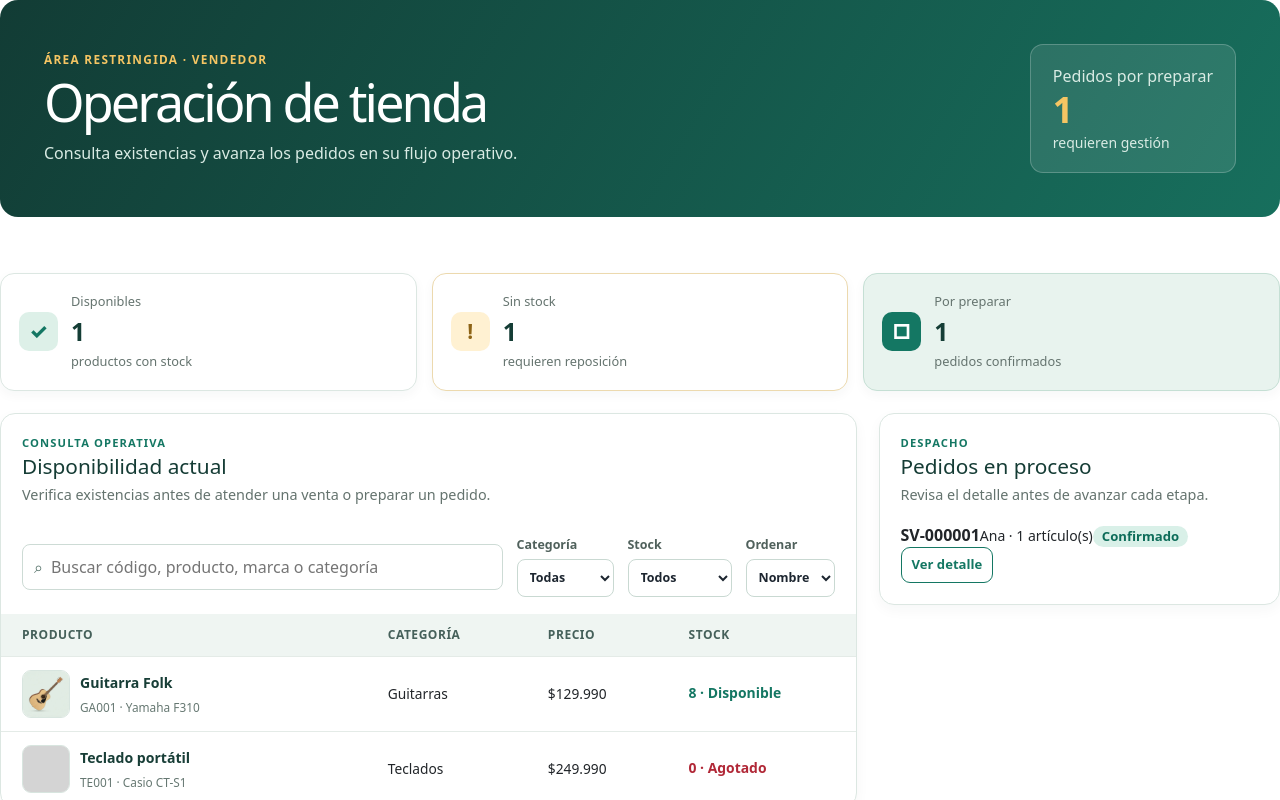
Vendedor › muestra el detalle y solicita confirmación antes de avanzar un pedido
Click the button "Ver detalle": {"x": 947, "y": 565} [900,547,993,583]
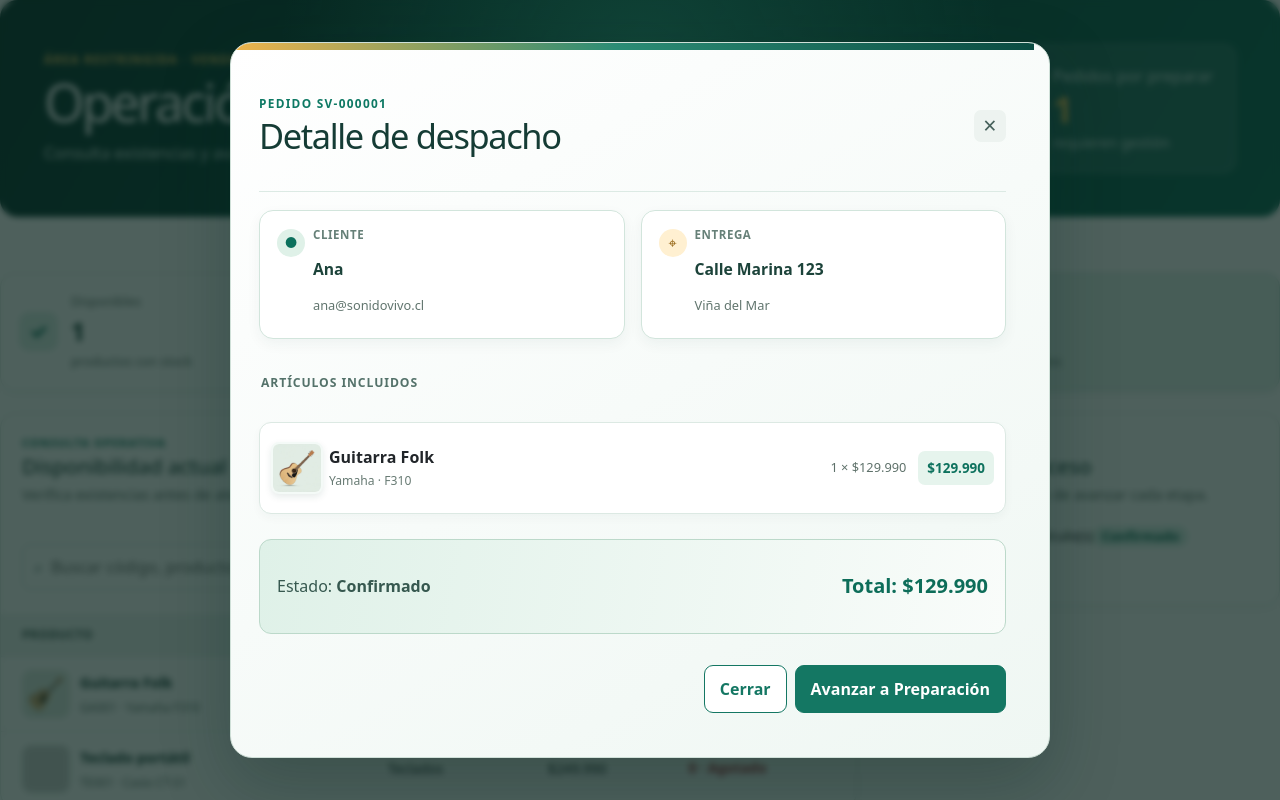
Result: the dialog "Detalle de despacho" is shown at [230,42,1050,758]
Result: the text "Calle Marina 123" is shown at [694,258,824,280]
Click the button "Avanzar a Preparación": {"x": 900, "y": 689} [795,665,1006,713]
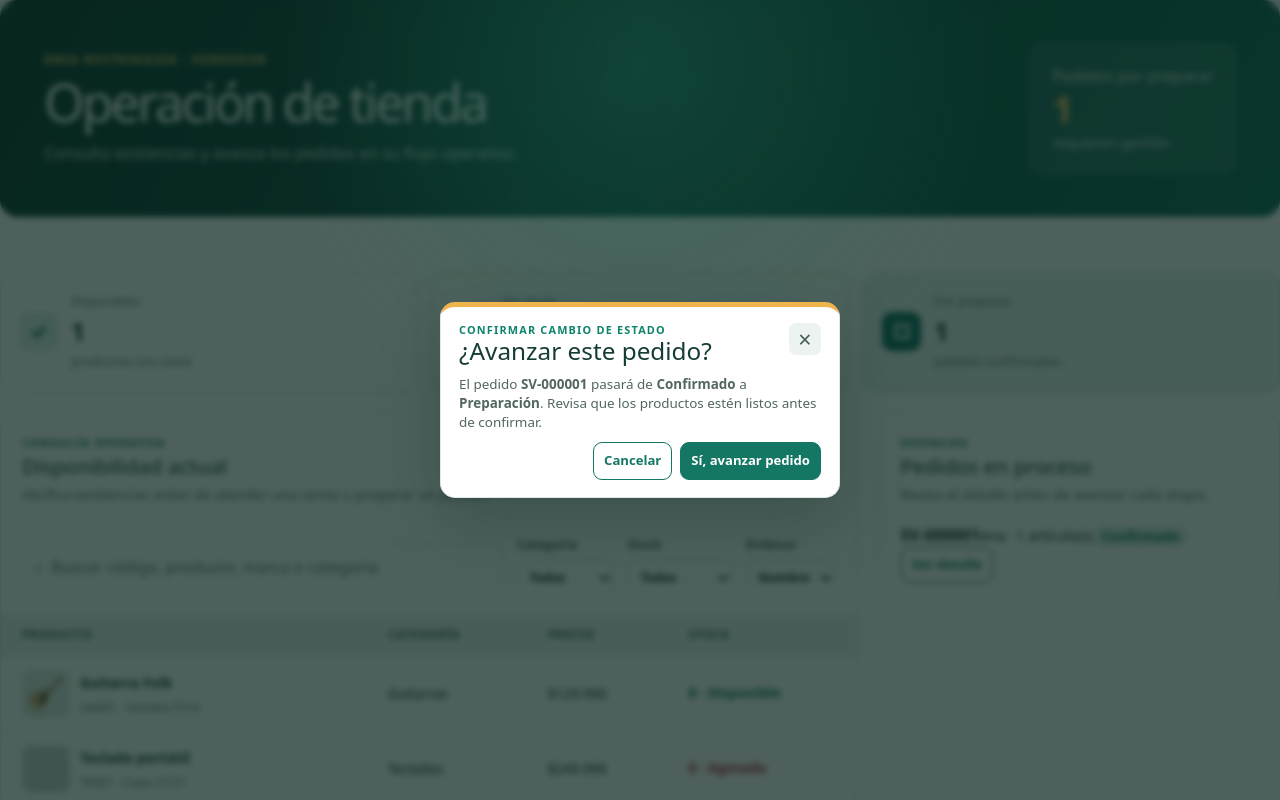
Result: the dialog "¿Avanzar este pedido?" is shown at [440,302,840,498]
Click the button "Sí, avanzar pedido": {"x": 751, "y": 461} [680,442,821,480]
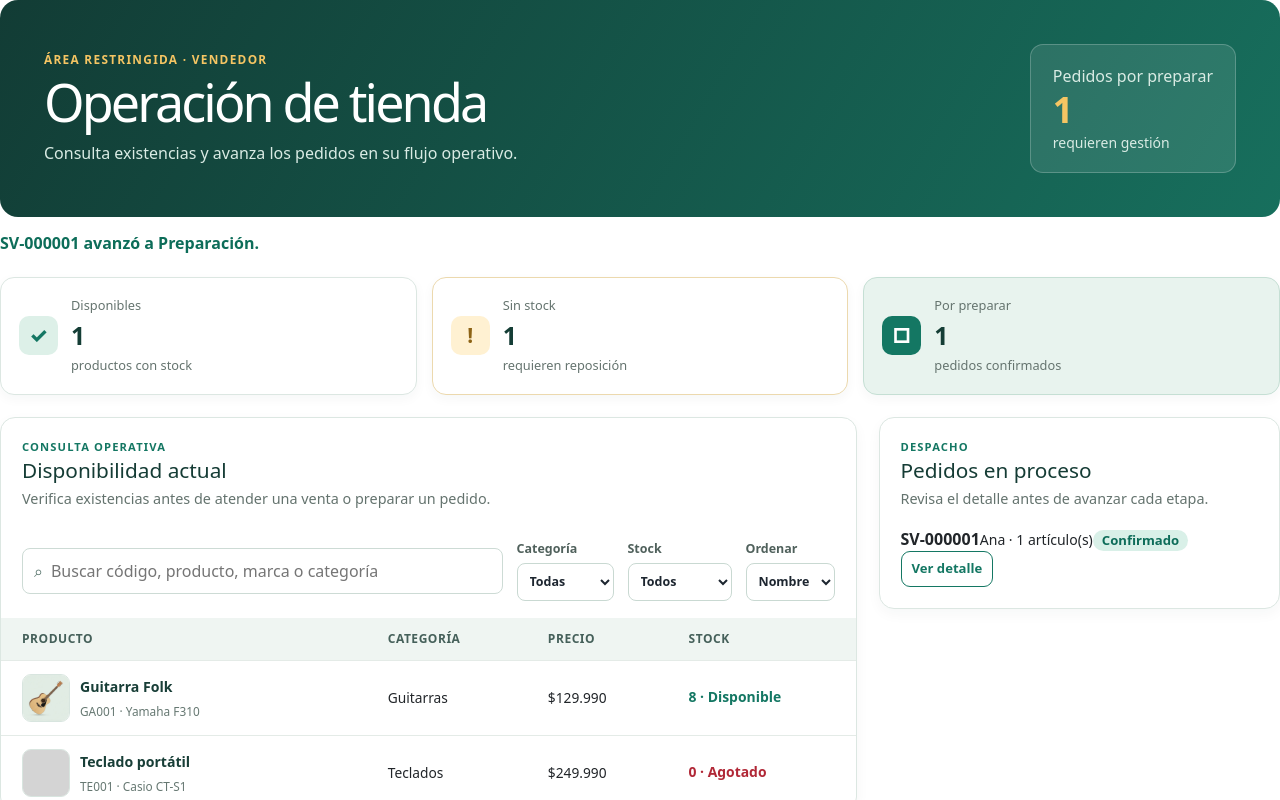
Result: the text "SV-000001 avanzó a Preparación." is shown at [0,232,259,254]
